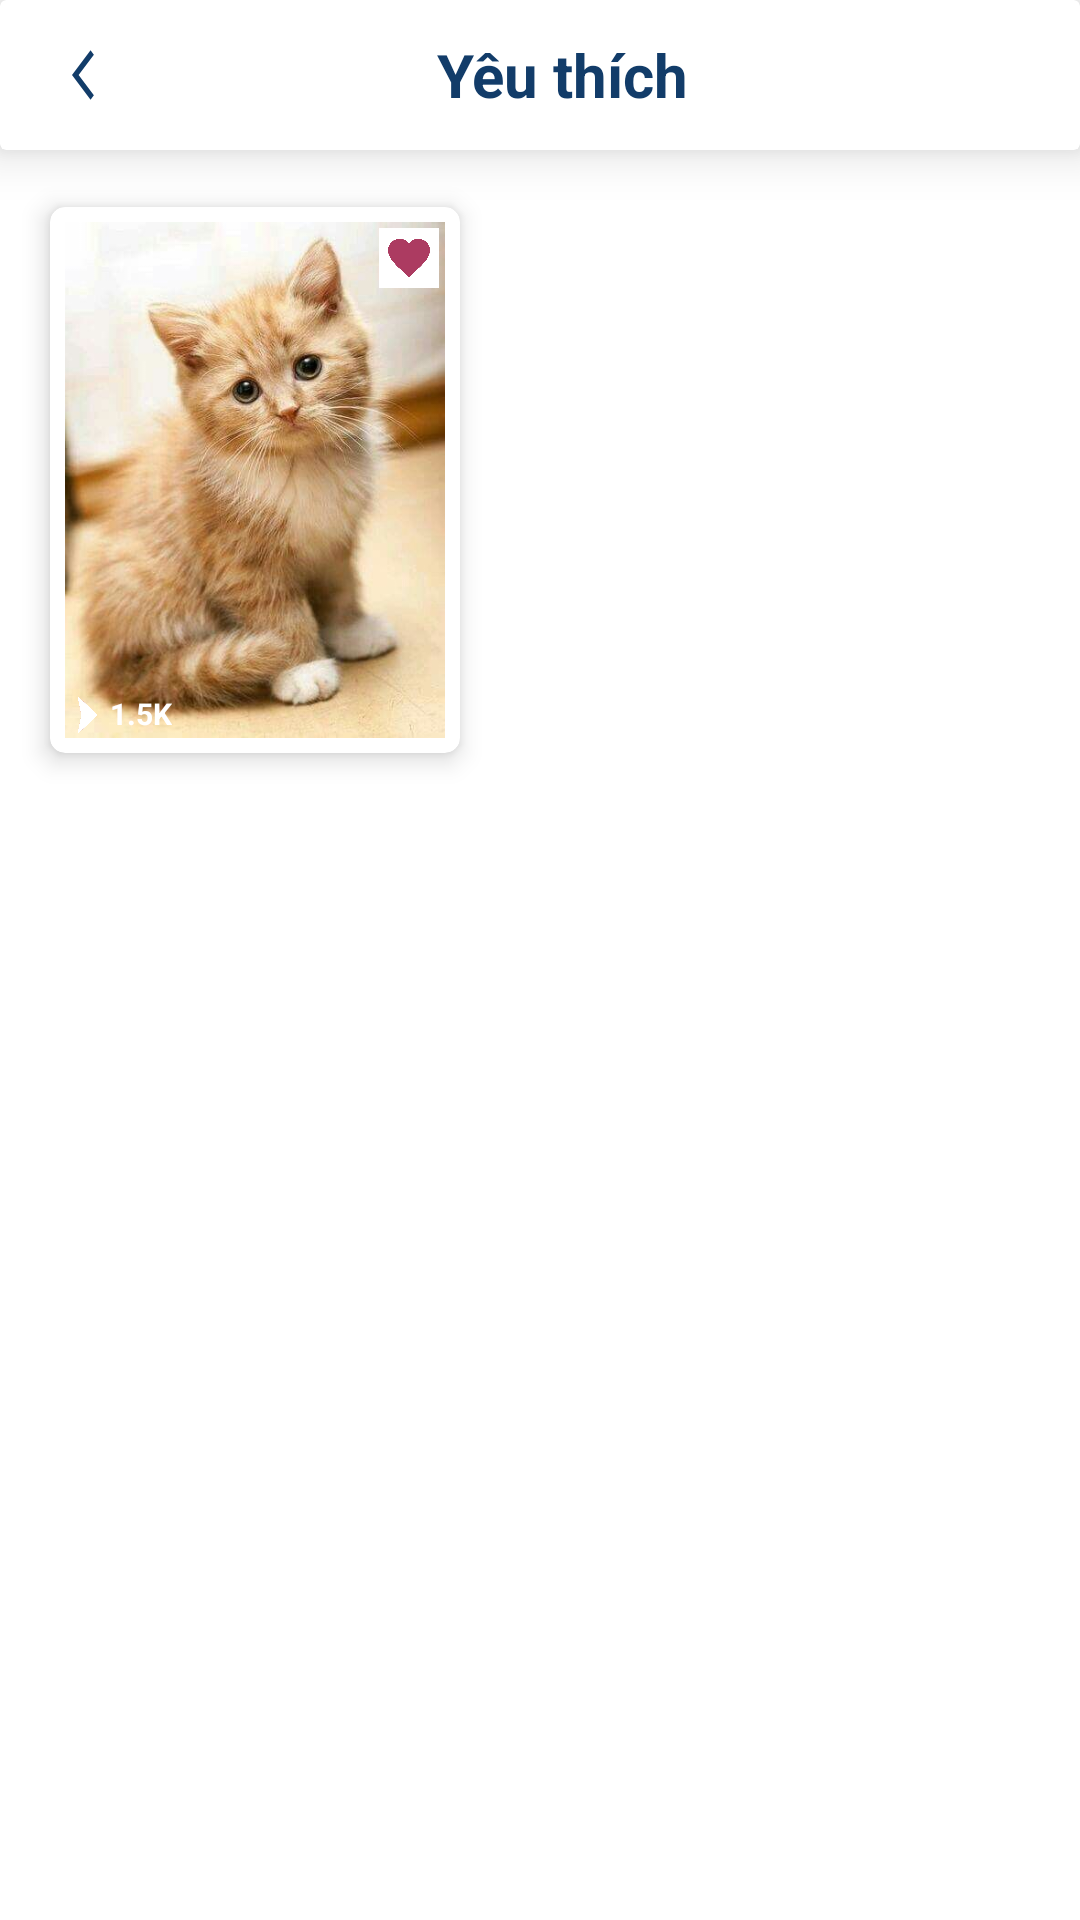

Icons on this 1080px×1920px Android screen, each with the point to tap as (x,y):
back: (83,75)
video heart: (409,258)
view: (87,715)
